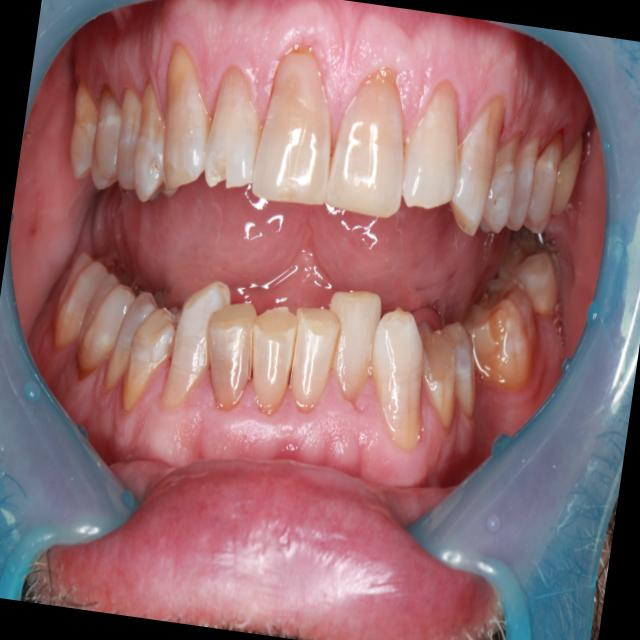tooth: (311, 48, 428, 244), (242, 30, 354, 234), (387, 63, 485, 239), (139, 34, 234, 215), (353, 301, 449, 463), (456, 272, 554, 410), (435, 77, 514, 246), (152, 264, 233, 427), (118, 66, 200, 214), (187, 295, 274, 431), (195, 64, 273, 207), (277, 290, 352, 432), (61, 256, 138, 394), (114, 296, 184, 443), (318, 279, 395, 405), (470, 96, 532, 252), (238, 295, 310, 428), (406, 311, 476, 442), (427, 308, 498, 437), (74, 75, 140, 200), (95, 274, 157, 403), (46, 240, 106, 364), (519, 115, 570, 246), (56, 67, 108, 194), (102, 86, 156, 203), (492, 242, 568, 322), (501, 123, 548, 235), (546, 124, 592, 235)
